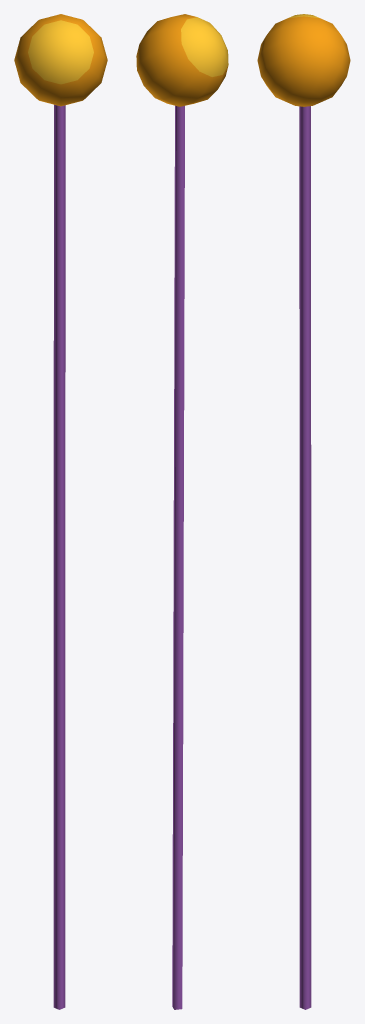
The model's file is tree04.FBX.
The picture shows the model from 3 angles, left to right: view 1: azimuth 90°, elevation 25°; view 2: azimuth 150°, elevation 25°; view 3: azimuth 270°, elevation 25°; orthographic projection.
Visible parts, largest first — view 1: tree05; view 2: tree05; view 3: tree05.
Part boxes in pixels (<box>): tree05: <box>14,14,107,1009</box>; tree05: <box>136,14,228,1009</box>; tree05: <box>257,14,350,1009</box>.
Size of the model in its own units: 4.92 by 57.87 by 4.95.
Materials: 1 (1 with a texture image).
